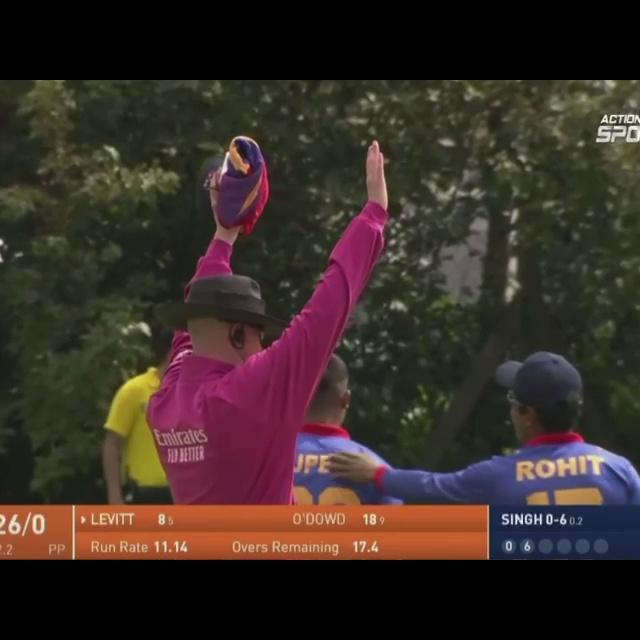umpire: (125, 102, 421, 467)
